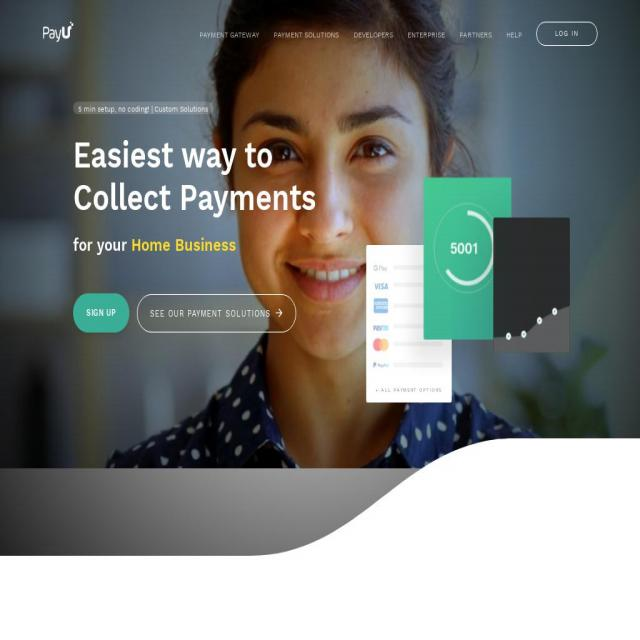login-option: (540, 22, 599, 48)
navigation-links: (185, 18, 529, 52)
sign-up-option: (70, 290, 135, 333)
